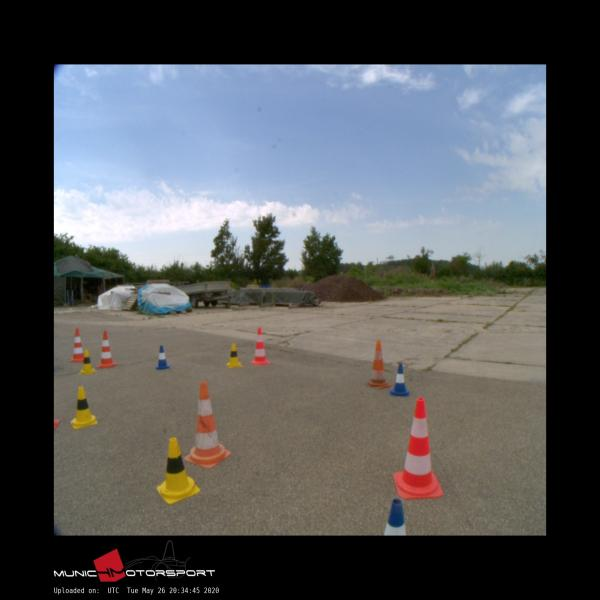blue_cone: (390, 364, 409, 396), (154, 346, 170, 368)
large_orange_cone: (394, 397, 440, 487), (185, 381, 230, 467), (364, 340, 390, 388), (96, 330, 118, 368), (250, 327, 268, 364), (68, 328, 85, 361)
yellow_cone: (157, 437, 200, 503), (70, 386, 97, 427), (79, 350, 96, 372), (226, 344, 242, 366)
